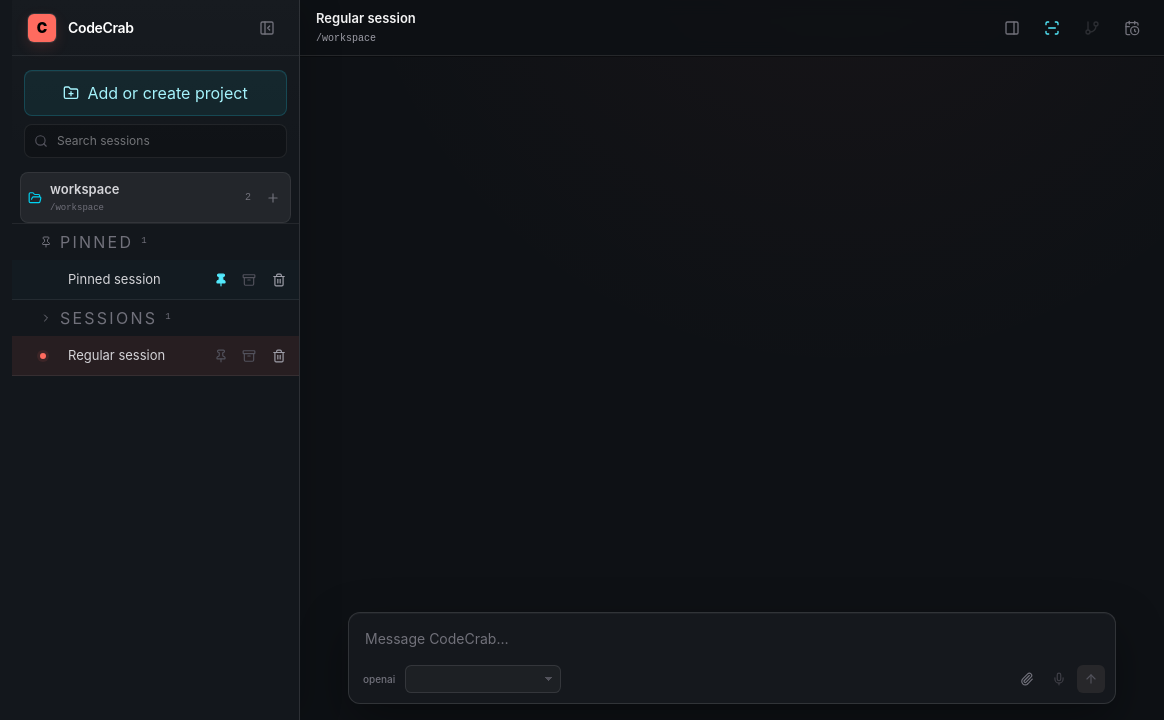
Test: session sidebar actions › ignores content updates from a stale identified search
The width and height of the screenshot is (1164, 720).
Type "alpha" into the search field named "Search sessions" at [156, 141], box [24,124,287,158]
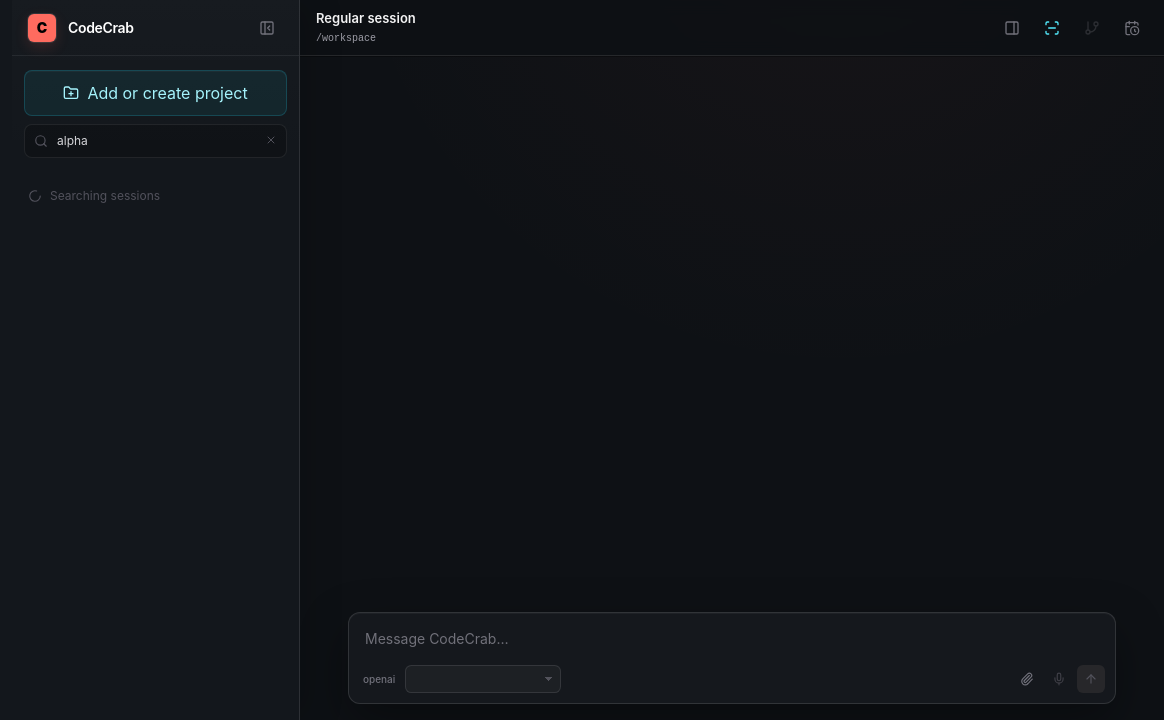
Replace the text in the search field named "Search sessions" with "beta" at [156, 141], box [24,124,287,158]
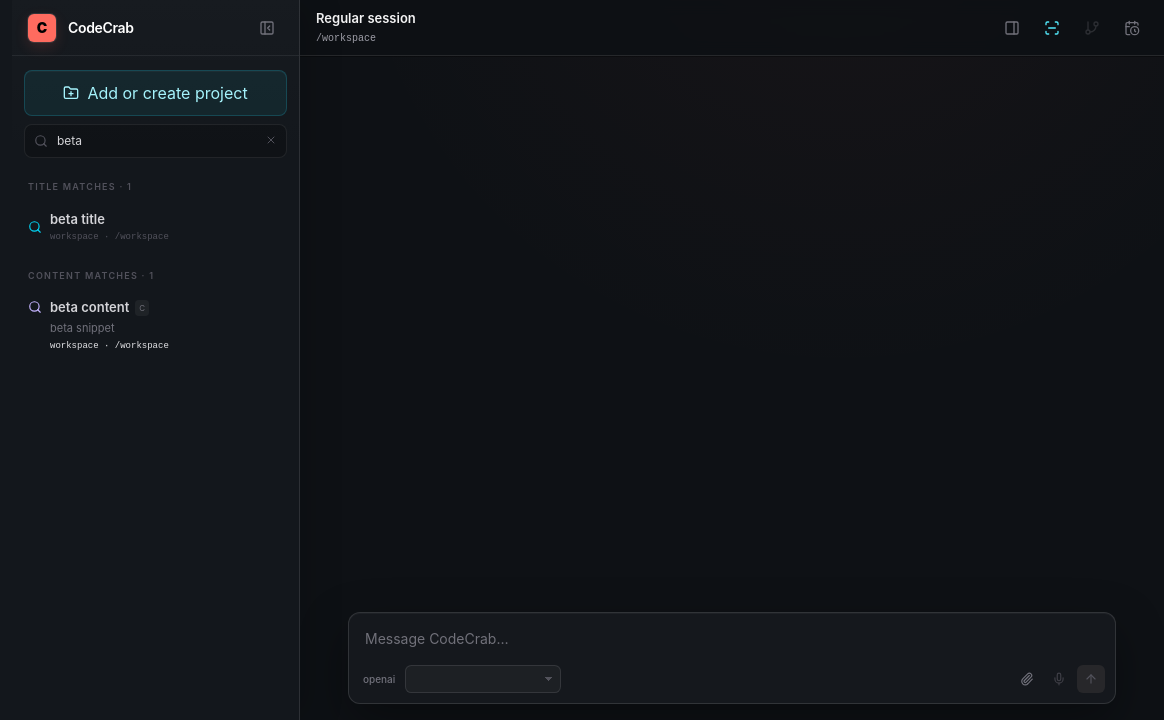
Result: the text "beta snippet" is shown at [50,320,114,334]
Result: the text "beta content" is shown at [50,298,129,318]
